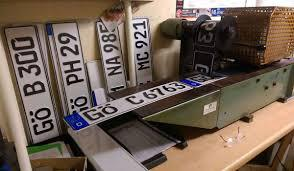0: (10, 36, 35, 50), (15, 50, 39, 64)
1: (132, 20, 147, 30)
2: (59, 44, 80, 56), (133, 31, 147, 39)
3: (17, 64, 42, 78), (169, 82, 186, 90)
6: (142, 91, 158, 100), (162, 85, 177, 93)
7: (150, 87, 165, 96)
8: (101, 33, 117, 42)
9: (57, 32, 77, 44), (102, 44, 119, 53), (135, 39, 148, 49)
A: (105, 55, 121, 64)
B: (22, 79, 47, 97)
C: (124, 95, 144, 105), (136, 51, 149, 60)
G: (33, 118, 54, 136), (82, 109, 105, 121)
H: (62, 60, 83, 73)
M: (137, 60, 151, 70)
N: (106, 65, 123, 76)
P: (65, 74, 85, 85)
o: (28, 106, 52, 122)
oe: (69, 96, 89, 109), (97, 103, 119, 114)
